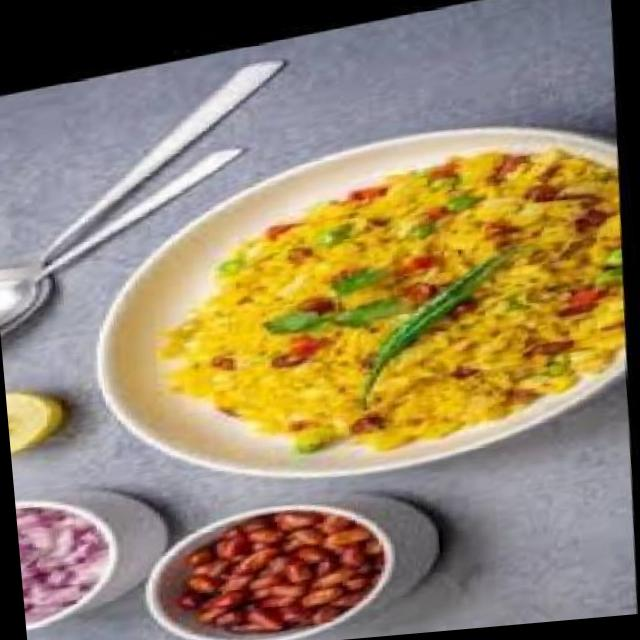poha: (143, 125, 640, 479)
